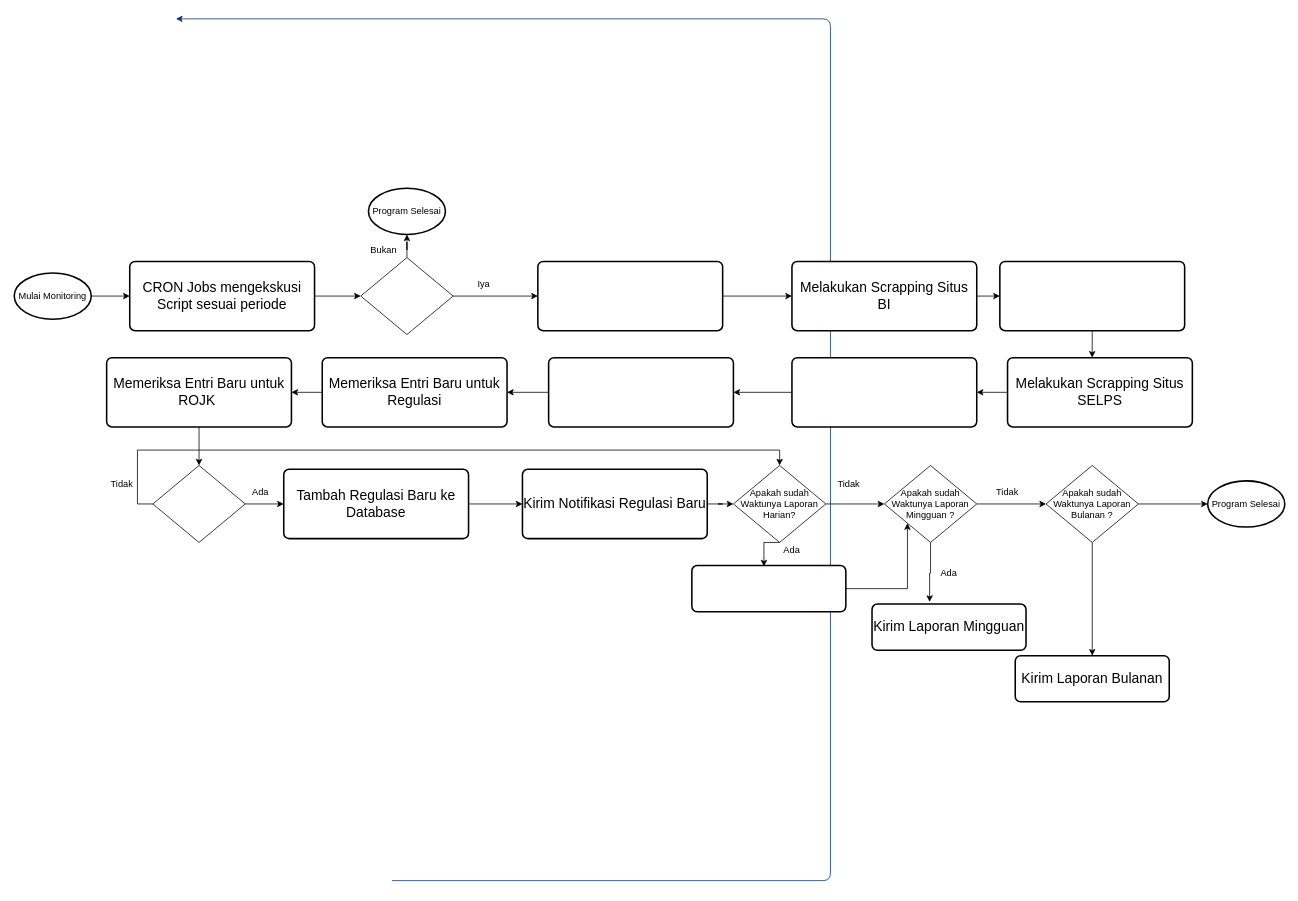
The diagram is 1298 pixels wide and 901 high, and some of its shapes have lost their labels. The shapes that lost their labels are listed below. From the top down, each one's box as (x1, y1, x2, y2) in pixels, then its label:
(360, 257, 453, 335): Apakah di Hari dan Jam Kerja ?
(537, 260, 723, 331): Melakukan Scrapping Regulator OJK
(999, 260, 1185, 331): Melakukan Scrapping Situs LPS
(547, 357, 734, 427): Menggabungkan Hasil Scrapping untuk Situs Regulator (OJK,BI,LPS,SELPS)
(791, 357, 977, 427): Melakukan Scrapping Situs ROJK
(152, 465, 245, 542): Apakah ada Entri Baru ?
(691, 564, 846, 612): Kirim Laporan Harian
